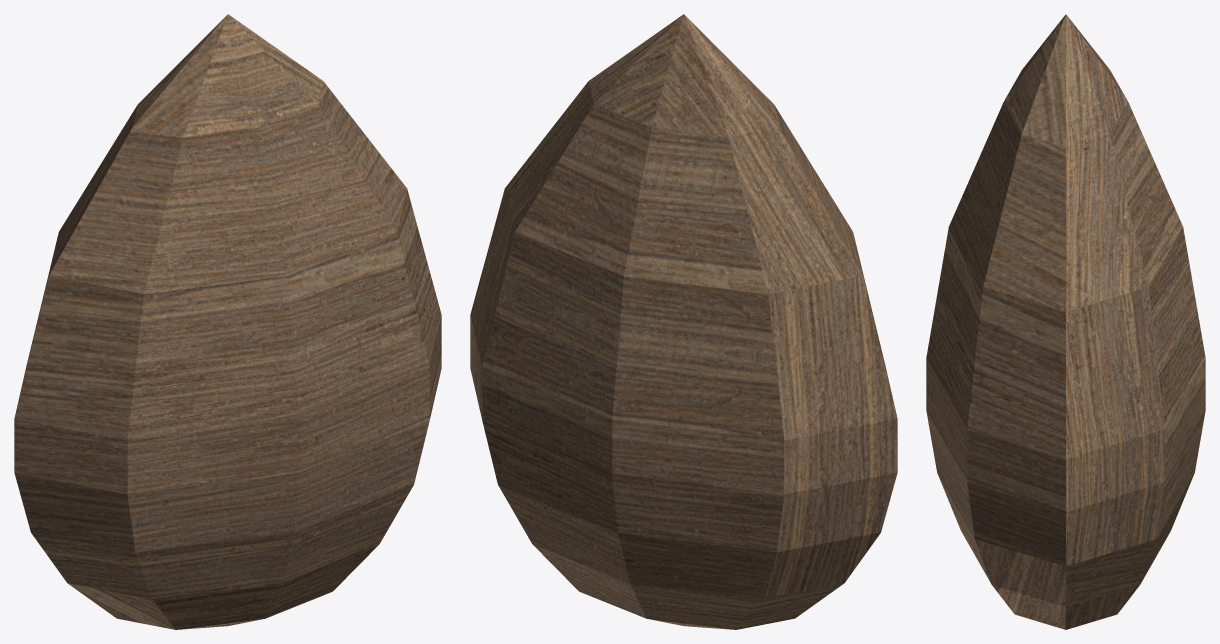
Rendered from seed_color2.fbx.
The picture shows the model from 3 angles, left to right: view 1: azimuth 30°, elevation 25°; view 2: azimuth 150°, elevation 25°; view 3: azimuth 270°, elevation 25°; orthographic projection. The views are drawn at different scales.
Parts seen in each view (by area): view 1: 원형; view 2: 원형; view 3: 원형.
Part boxes in pixels (box(x1,y1,x2,y2)): 원형: box(14, 14, 441, 629); 원형: box(470, 14, 897, 629); 원형: box(926, 14, 1205, 629).
Bounding box in the file's own units: 60.29 × 82.56 × 35.01.
1 material, 1 textured.
